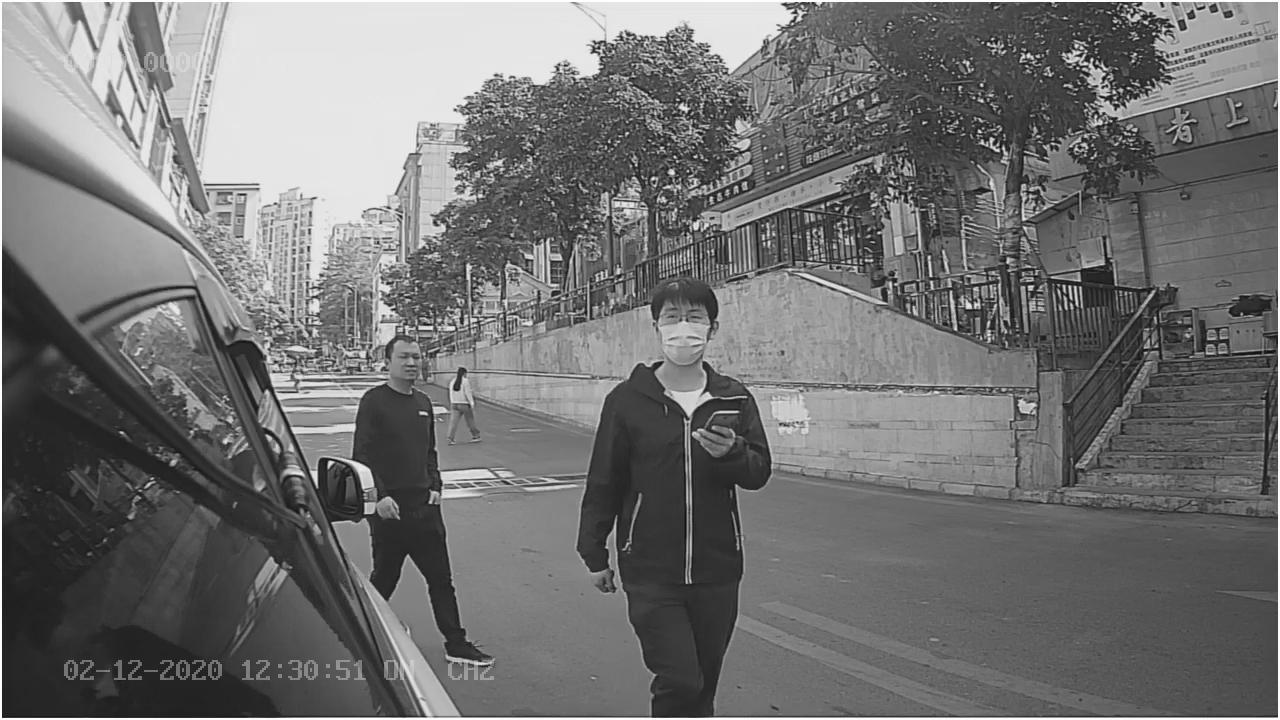person: (572, 275, 773, 589), (353, 333, 442, 456)
